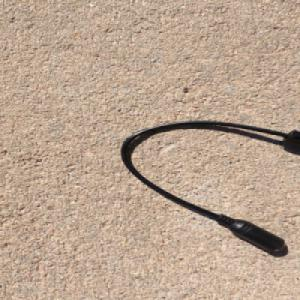Wire: (118, 119, 300, 253)
